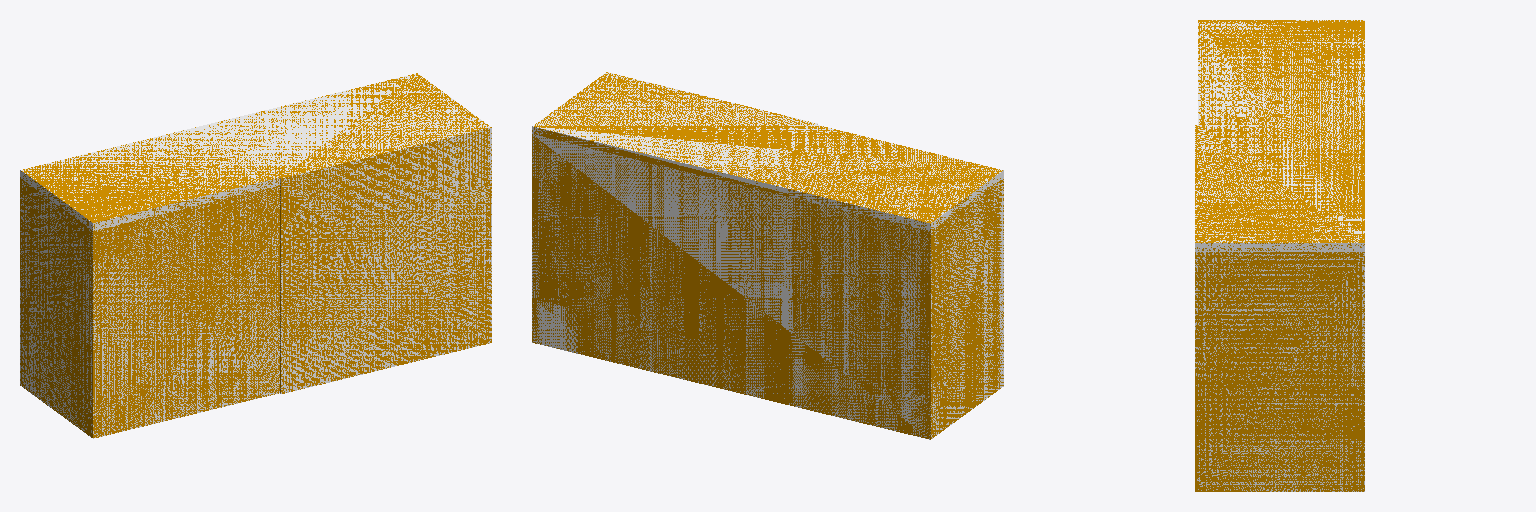
robot.urdf — my_object:
<?xml version="1.0" ?> 
<robot name="my_object" static="true">
  <link name="base_link">
  <inertial>
    <mass value="1.0" />
    <origin xyz="0 0 0.0" />
    <inertia ixx="1.0" ixy="0.0" ixz="0.0" iyy="1.0" iyz="0.0" izz="1.0"/>
  </inertial>
  <visual>
   <origin xyz="0 0 0.0" rpy="0 0 -1.570796327" />
   <geometry>
     <mesh filename="package://cob_gazebo_objects/Media/models/livingroom_closet.dae"/>
   </geometry>
  </visual>
  <collision>
   <origin xyz="0 0 0.41" rpy="0 0 0" />
   <geometry>
     <box size="1.6 0.52 0.82" />
   </geometry>
  </collision>     
  </link>

<gazebo>
	<static>true</static>
</gazebo>
</robot>

--- What the picture shows (computed from the rendered views, not written in the file) ---
3 views of the same robot in one strip: view 1: azimuth 30°, elevation 25°; view 2: azimuth 150°, elevation 25°; view 3: azimuth 270°, elevation 25° (orthographic).
Model my_object with 1 links and 0 joints (none), rooted at base_link, posed all joints at 0.
Visible links, largest first — view 1: base_link; view 2: base_link; view 3: base_link.
Boxes of the visible links, bbox=[...] form: base_link: bbox=[20, 73, 491, 438]; base_link: bbox=[532, 72, 1003, 439]; base_link: bbox=[1195, 20, 1364, 491].
Bounding box of the posed robot: 0.0401 × 0.013 × 0.0208 m (x, y, z).
Meshes: 1 distinct files referenced, 1 mesh visuals loaded (1 Collada DAE).